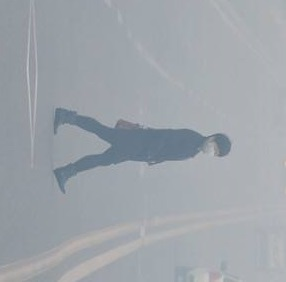person: (52, 106, 233, 196)
